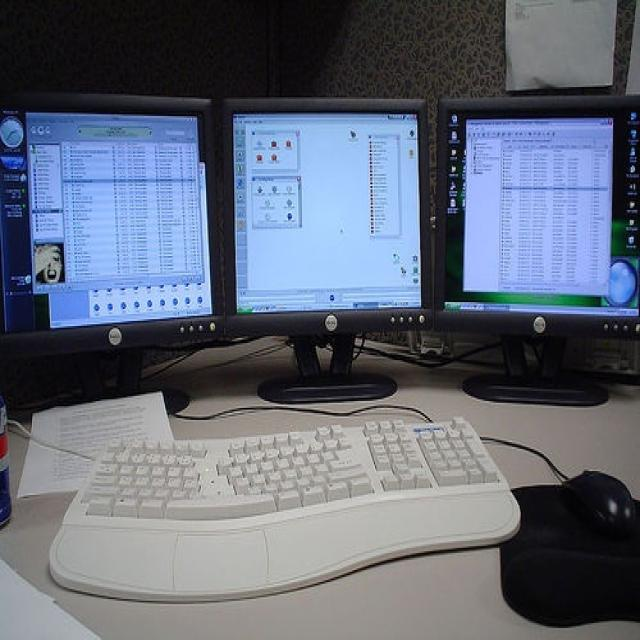tvmonitor: (3, 95, 218, 421), (432, 93, 640, 409), (219, 97, 435, 401)
